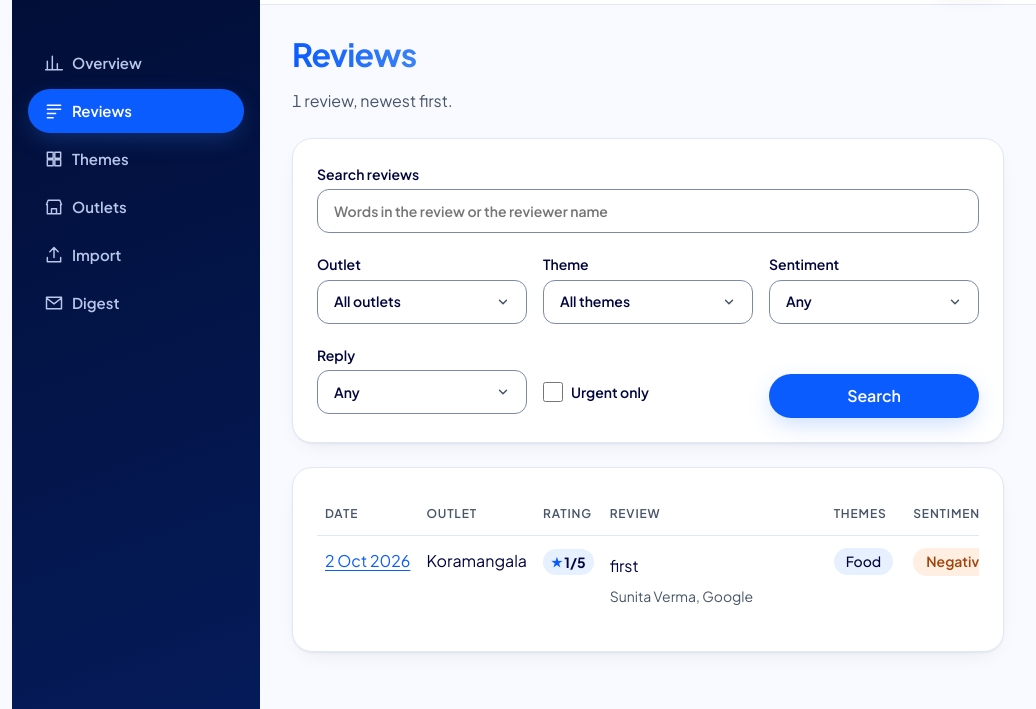
Test: ReviewsPage › changing a filter rewrites the URL and reloads
Expected: the text "first" is shown, [610,555,639,576]
Select "Negative" in the dropdown labelled "Sentiment" at (874, 302), box [769,280,979,324]
(page scrolled)
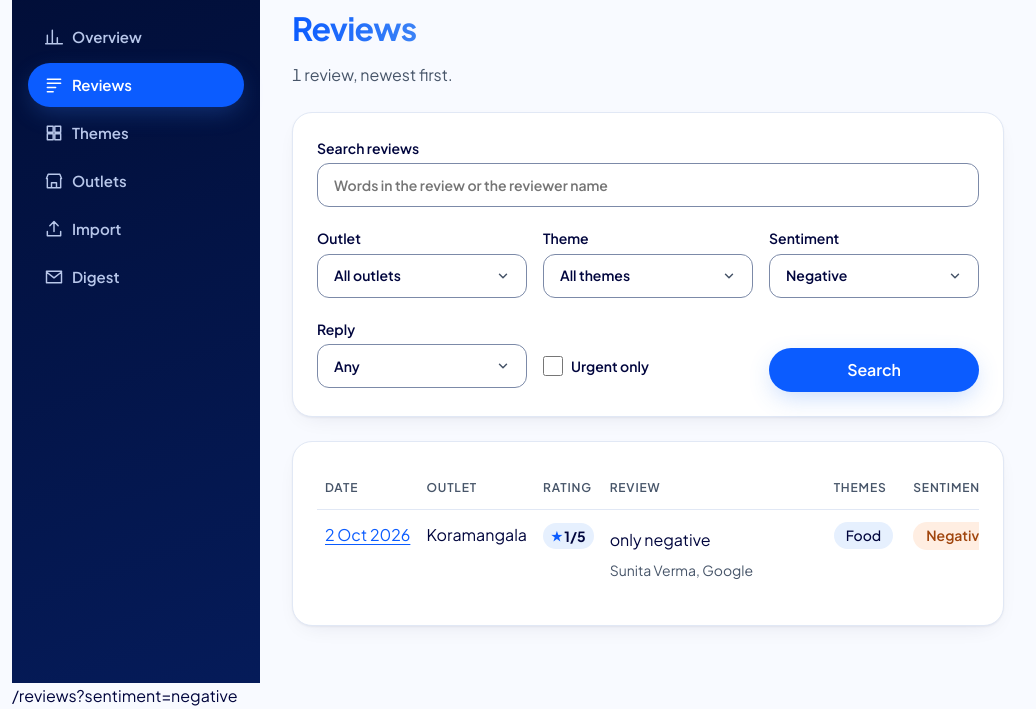
Expected: the text "only negative" is shown, [610,529,711,550]
Expected: the text with test id "location" reads "/reviews?sentiment=negative", [12,685,238,706]
